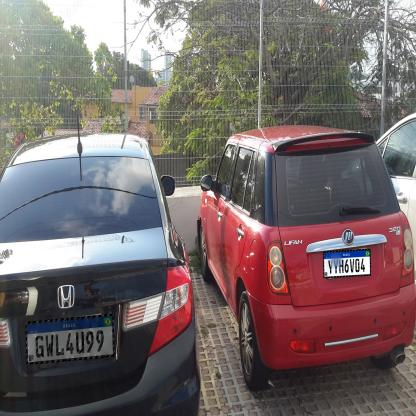PlacaM: (26, 314, 115, 365), (323, 249, 371, 278)
